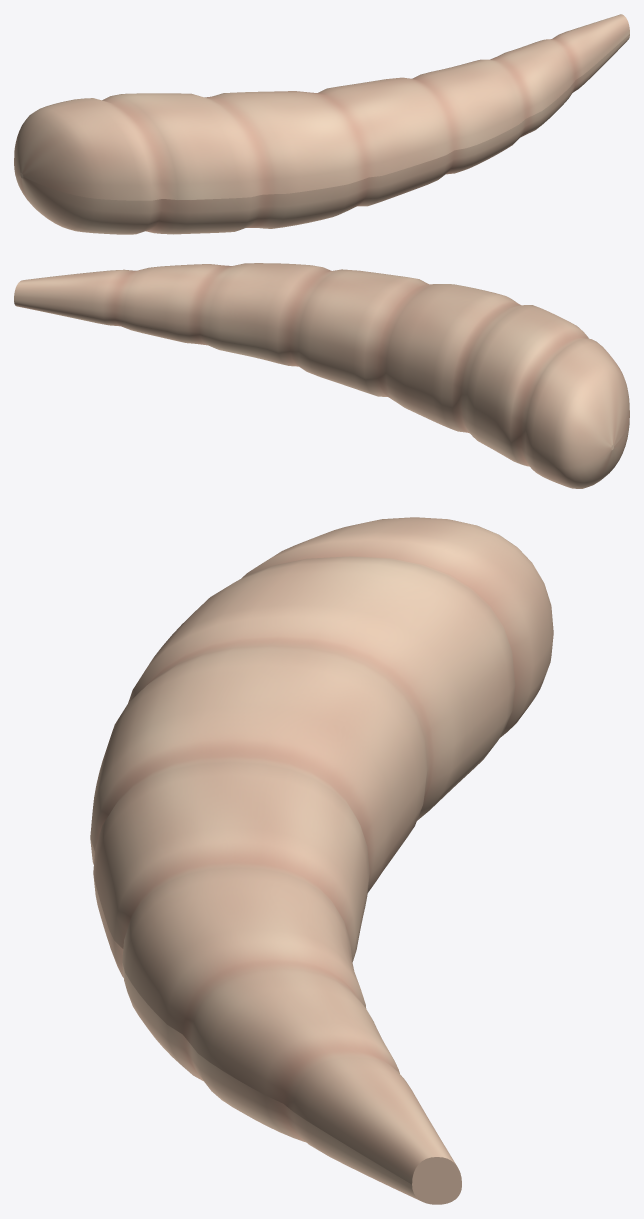
The model's file is shrimp.glb.
3 renders of one model, top to bottom at view 1: azimuth 30°, elevation 25°; view 2: azimuth 150°, elevation 25°; view 3: azimuth 270°, elevation 25°, orthographic. The views are drawn at different scales.
Visible parts, largest first — view 1: shrimp; view 2: shrimp; view 3: shrimp.
Boxes of the visible parts, box(x1,y1,x2,y2) form: shrimp: box(14, 14, 629, 234); shrimp: box(14, 263, 629, 488); shrimp: box(90, 517, 553, 1204).
Bounding box in the file's own units: 2.48 × 0.4905 × 0.8343.
1 material, 1 textured.
